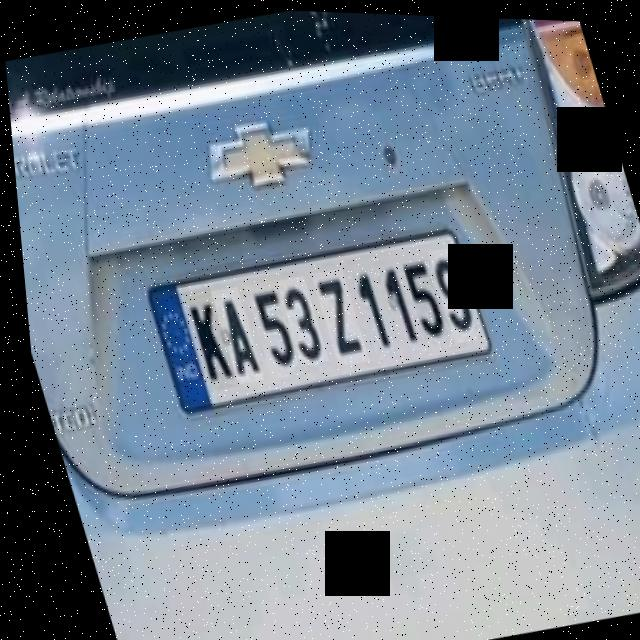1: (342, 261, 393, 354), (369, 257, 417, 345)
3: (270, 273, 322, 364)
5: (238, 276, 296, 378), (398, 255, 444, 337)
9: (423, 243, 472, 340)
A: (204, 284, 258, 383)
K: (173, 285, 232, 390)
Z: (305, 264, 363, 364)
